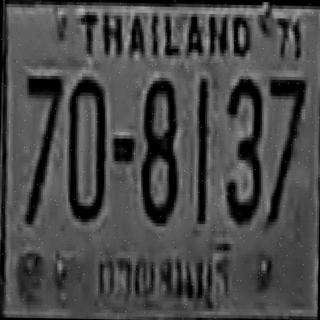N00: (66, 73, 106, 219)
N01: (194, 78, 208, 221)
N03: (223, 76, 261, 222)
N07: (22, 70, 62, 220), (265, 73, 305, 222), (23, 72, 62, 180)
N08: (138, 74, 178, 220)
P17: (88, 234, 240, 313)
